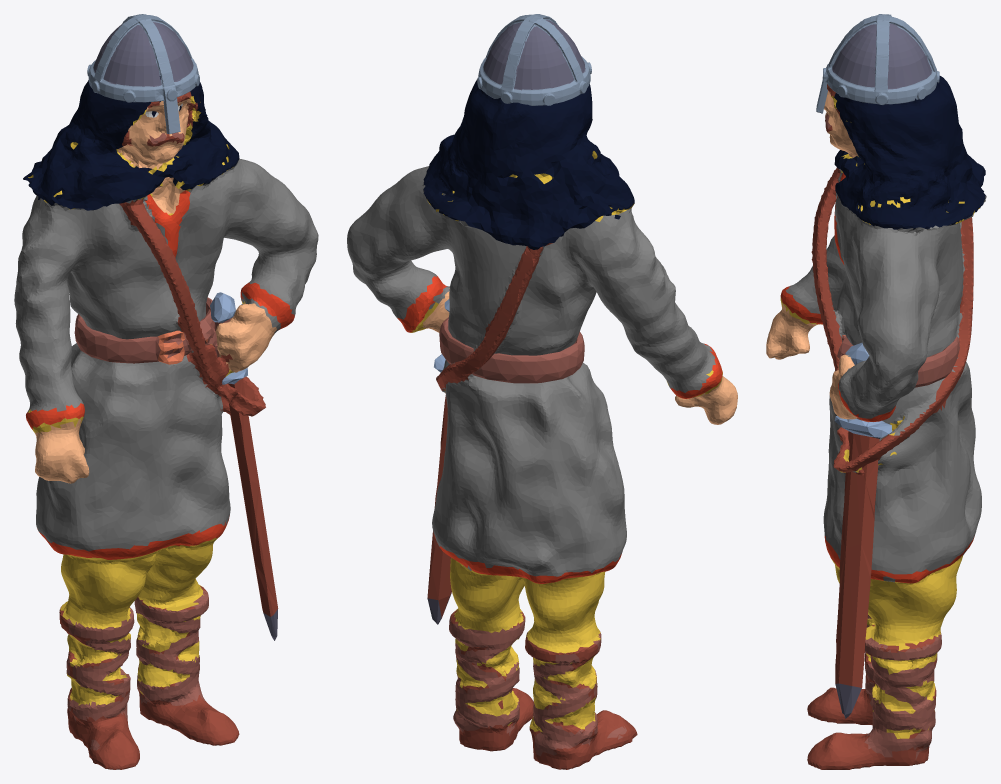
The model's file is Olav.fbx.
The picture shows the model from 3 angles, left to right: view 1: azimuth 30°, elevation 25°; view 2: azimuth 150°, elevation 25°; view 3: azimuth 270°, elevation 25°; orthographic projection.
Parts seen in each view (by area): view 1: MainBody, Helmet, Sword, Belt; view 2: MainBody, Helmet, Belt, Sword; view 3: MainBody, Sword, Helmet, Belt.
Boxes of the visible parts, <box> form: MainBody: <box>14,76,318,769</box>; Helmet: <box>87,14,199,134</box>; Sword: <box>210,292,278,640</box>; Belt: <box>74,297,218,364</box>; MainBody: <box>347,79,737,769</box>; Helmet: <box>477,14,591,105</box>; Belt: <box>439,317,584,383</box>; Sword: <box>427,299,451,624</box>; MainBody: <box>766,76,986,769</box>; Sword: <box>834,342,892,718</box>; Helmet: <box>816,14,939,113</box>; Belt: <box>837,335,959,387</box>.
Size of the model in its own units: 1167 by 2414 by 670.
